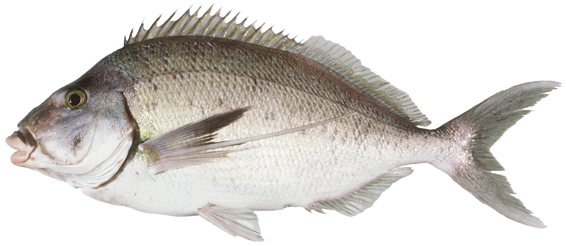fish: (5, 4, 563, 243)
